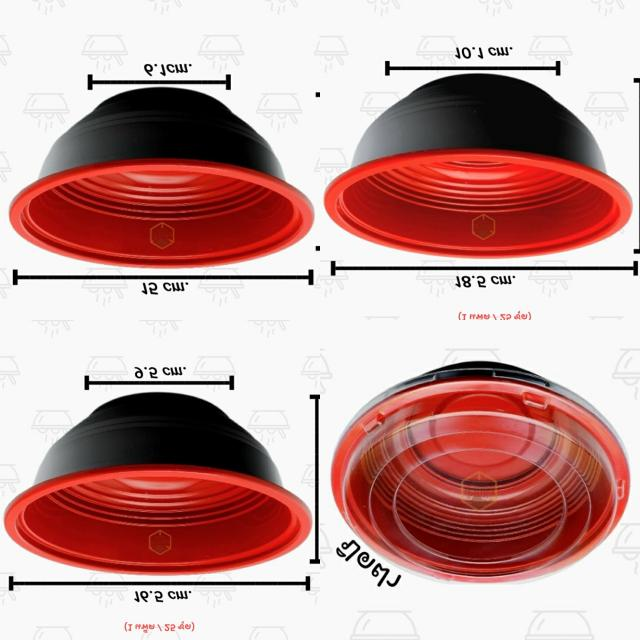Single-Use-Plastic: (332, 362, 630, 581), (325, 74, 631, 258), (5, 392, 311, 573), (10, 88, 314, 267)
